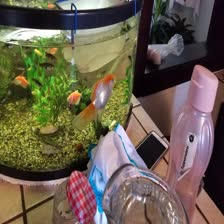Cuezo: (76, 73, 118, 125)
Plano: (13, 75, 32, 92), (63, 92, 81, 106)
